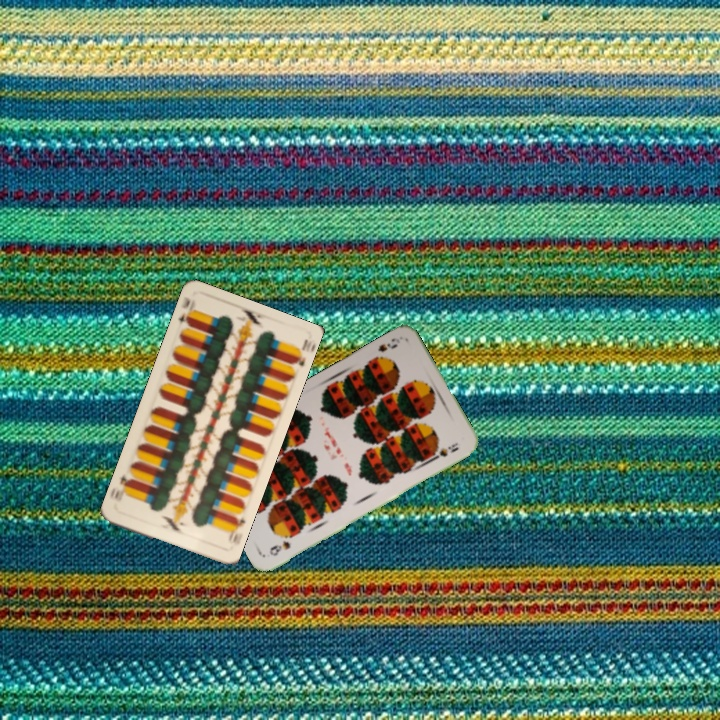E10: (223, 512, 248, 547), (173, 293, 195, 332)
S9: (368, 339, 400, 364), (265, 536, 293, 559)
